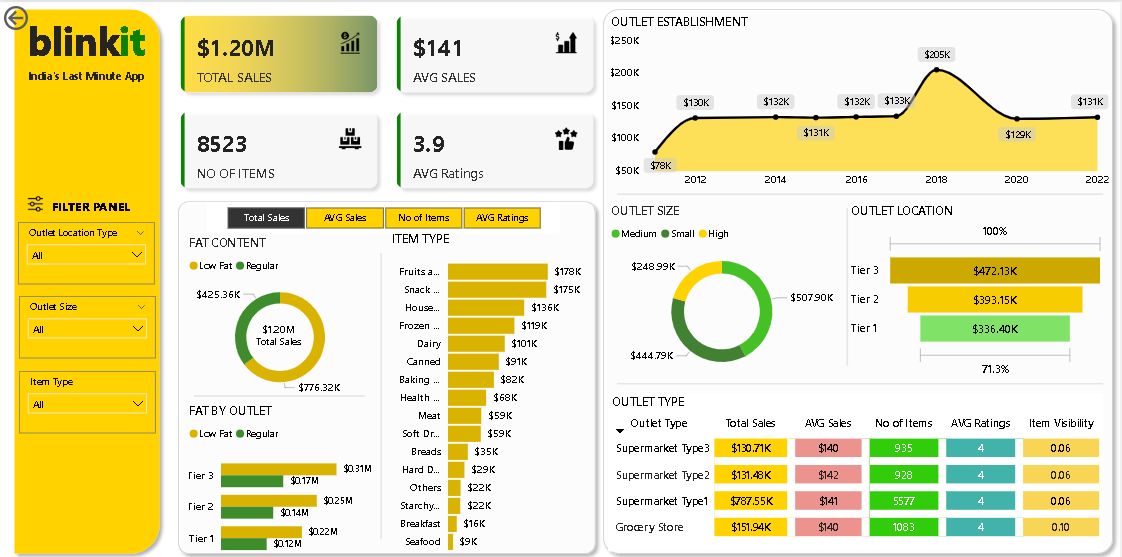

The page's visual inventory and layout, read from the dashboard file:
{"tool":"powerbi","page":{"name":"Page 1","canvas":[1400,750],"ordinal":0},"visuals":[{"type":"shape","box":[9,0,200,698.7],"z":0},{"type":"textbox","box":[22.8,8.9,172.2,84.8],"z":1000},{"type":"textbox","box":[22.8,78.5,170.9,29.1],"z":2000},{"type":"cardVisual","fields":{"Data":["BlinkIT Grocery Data.Total Sales","BlinkIT Grocery Data.AVG Sales","BlinkIT Grocery Data.No of Items","BlinkIT Grocery Data.AVG Ratings"]},"box":[209,0,550,250],"z":3000},{"type":"shape","box":[214.1,239.7,539.7,459],"z":4000},{"type":"donutChart","title":"FAT CONTENT","fields":{"Y":["BlinkIT Grocery Data.Total Sales"],"Category":["BlinkIT Grocery Data.Item Fat Content"]},"box":[231.2,290,237.5,210],"z":5000},{"type":"slicer","fields":{"Values":["Metrics.Metrics"]},"box":[258.8,250,441.2,40],"z":6000},{"type":"cardVisual","fields":{"Data":["BlinkIT Grocery Data.Total Sales"]},"box":[297.5,385,101.2,60],"z":7000},{"type":"clusteredBarChart","title":"FAT BY OUTLET","fields":{"Y":["BlinkIT Grocery Data.Total Sales"],"Category":["BlinkIT Grocery Data.Outlet Location Type"],"Series":["BlinkIT Grocery Data.Item Fat Content"]},"box":[231.2,500,237.5,207.5],"z":8000},{"type":"shape","box":[242.5,487.5,213.8,10],"z":9000},{"type":"shape","box":[469.2,314.1,15.4,357.7],"z":10000},{"type":"barChart","title":"ITEM TYPE","fields":{"Y":["BlinkIT Grocery Data.Total Sales"],"Category":["BlinkIT Grocery Data.Item Type"]},"box":[484.6,284.6,250,414.1],"z":11000},{"type":"shape","box":[744.9,0,655.1,698.7],"z":12000},{"type":"lineChart","title":"OUTLET ESTABLISHMENT","fields":{"Y":["BlinkIT Grocery Data.Total Sales"],"Category":["BlinkIT Grocery Data.Outlet Establishment Year"]},"box":[759,14.1,632.1,225.6],"z":13000},{"type":"shape","box":[771.8,232.1,607.7,15.4],"z":14000},{"type":"donutChart","title":"OUTLET SIZE","fields":{"Y":["BlinkIT Grocery Data.Total Sales"],"Category":["BlinkIT Grocery Data.Outlet Size"]},"box":[759,250,287.2,225.6],"z":15000},{"type":"shape","box":[1044.9,257.7,28.2,197.4],"z":16000},{"type":"funnel","title":"OUTLET LOCATION","fields":{"Category":["BlinkIT Grocery Data.Outlet Location Type"],"Y":["BlinkIT Grocery Data.Total Sales"]},"box":[1058.8,250,326.2,223.8],"z":17000},{"type":"shape","box":[771.8,465.4,607.7,24.4],"z":18000},{"type":"pivotTable","title":"OUTLET TYPE","fields":{"Rows":["BlinkIT Grocery Data.Outlet Type"],"Values":["BlinkIT Grocery Data.Total Sales","BlinkIT Grocery Data.AVG Sales","BlinkIT Grocery Data.No of Items","BlinkIT Grocery Data.AVG Ratings","Avg(BlinkIT Grocery Data.Item Visibility)"]},"box":[760,488.8,618.8,197.5],"z":19000},{"type":"slicer","fields":{"Values":["BlinkIT Grocery Data.Outlet Location Type"]},"box":[22.5,275,171.2,77.5],"z":20000},{"type":"actionButton","box":[0,0,100,40],"z":21000},{"type":"slicer","fields":{"Values":["BlinkIT Grocery Data.Outlet Size"]},"box":[23.8,367.5,171.2,77.5],"z":22000},{"type":"slicer","fields":{"Values":["BlinkIT Grocery Data.Item Type"]},"box":[23.8,461.2,171.2,77.5],"z":23000},{"type":"textbox","box":[60,240,171,35],"z":24000},{"type":"image","box":[23.8,231.2,41.2,43.8],"z":25000}]}

Visuals, with their boxes on the page's 1400x750 design canvas (x1, y1, x2, y2). These are canvas units, not pixel positions in the 1122x557 screenshot, which may show the page scaled, cropped or inside an application window:
shape: bbox(9, 0, 209, 699)
textbox: bbox(23, 9, 195, 94)
textbox: bbox(23, 78, 194, 108)
cardVisual - BlinkIT Grocery Data.Total Sales x BlinkIT Grocery Data.AVG Sales: bbox(209, 0, 759, 250)
shape: bbox(214, 240, 754, 699)
"FAT CONTENT" donutChart: bbox(231, 290, 469, 500)
slicer - Metrics.Metrics: bbox(259, 250, 700, 290)
cardVisual - BlinkIT Grocery Data.Total Sales: bbox(298, 385, 399, 445)
"FAT BY OUTLET" clusteredBarChart: bbox(231, 500, 469, 708)
shape: bbox(242, 488, 456, 498)
shape: bbox(469, 314, 485, 672)
"ITEM TYPE" barChart: bbox(485, 285, 735, 699)
shape: bbox(745, 0, 1400, 699)
"OUTLET ESTABLISHMENT" lineChart: bbox(759, 14, 1391, 240)
shape: bbox(772, 232, 1380, 248)
"OUTLET SIZE" donutChart: bbox(759, 250, 1046, 476)
shape: bbox(1045, 258, 1073, 455)
"OUTLET LOCATION" funnel: bbox(1059, 250, 1385, 474)
shape: bbox(772, 465, 1380, 490)
"OUTLET TYPE" pivotTable: bbox(760, 489, 1379, 686)
slicer - BlinkIT Grocery Data.Outlet Location Type: bbox(22, 275, 194, 352)
actionButton: bbox(0, 0, 100, 40)
slicer - BlinkIT Grocery Data.Outlet Size: bbox(24, 368, 195, 445)
slicer - BlinkIT Grocery Data.Item Type: bbox(24, 461, 195, 539)
textbox: bbox(60, 240, 231, 275)
image: bbox(24, 231, 65, 275)
